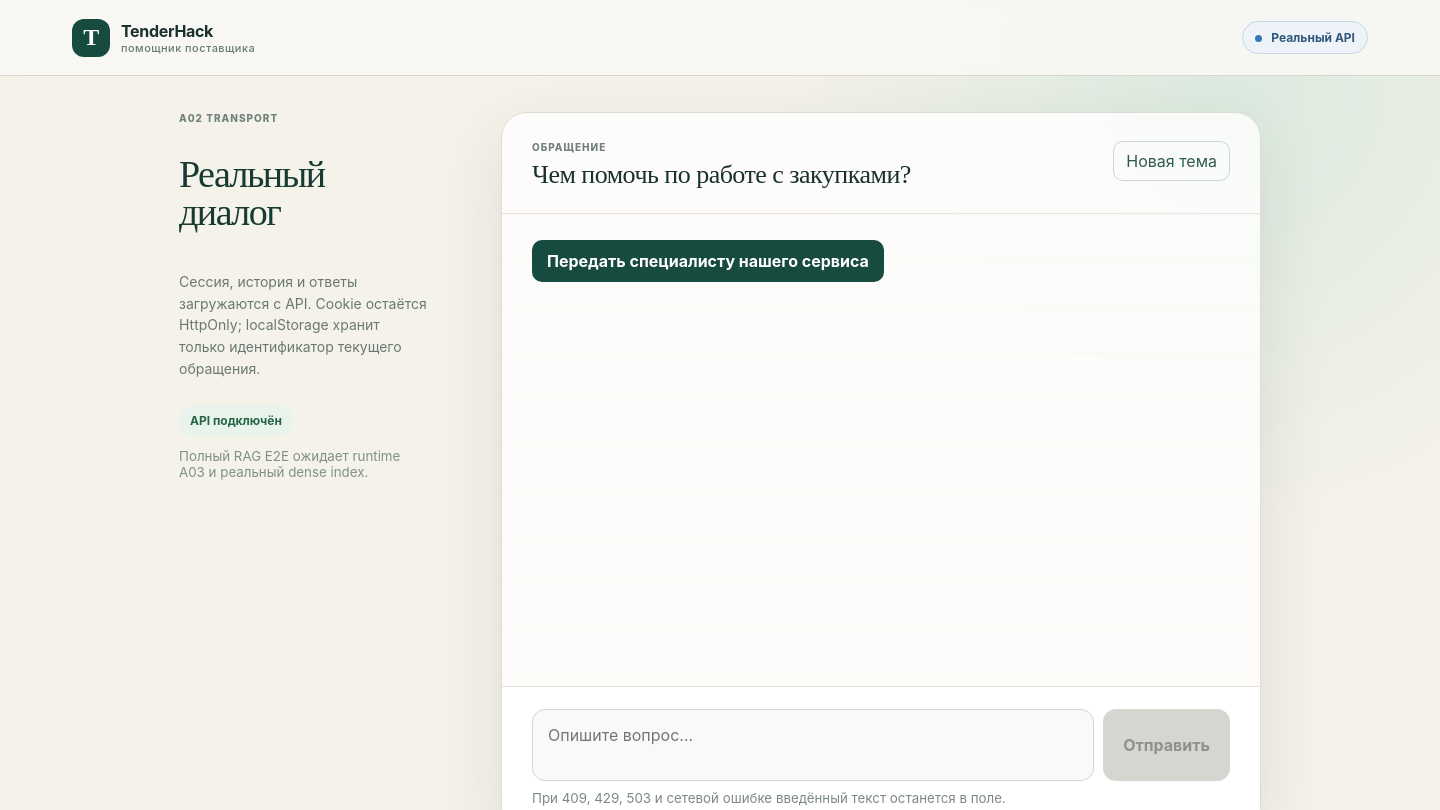
Test: TenderHack real API UI › sends explicit handoff to the real transport with the freshly loaded case_version
Click the button "Передать специалисту нашего сервиса": click(708, 261) [532,240,884,282]
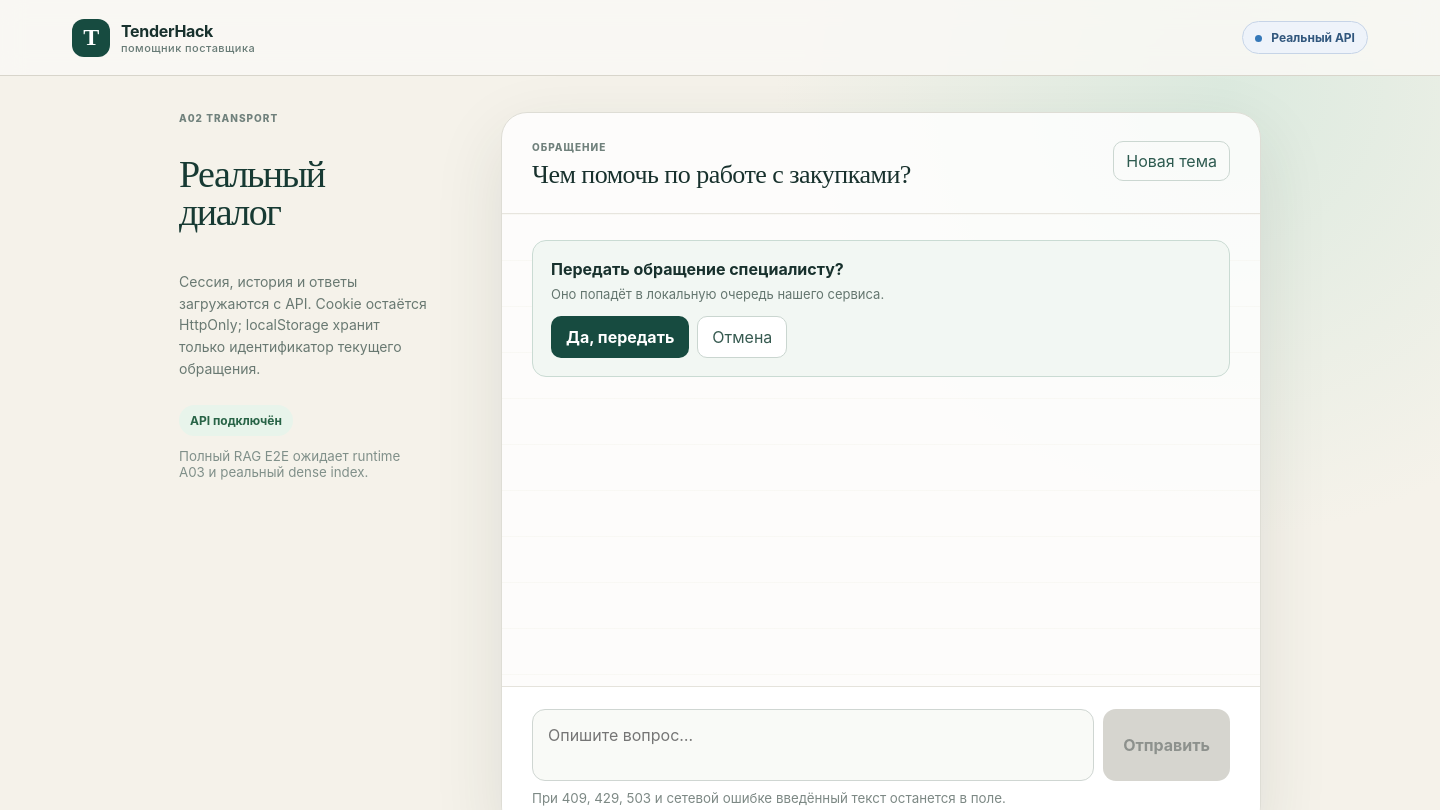
Click the button "Да, передать": click(620, 337) [551,316,689,358]
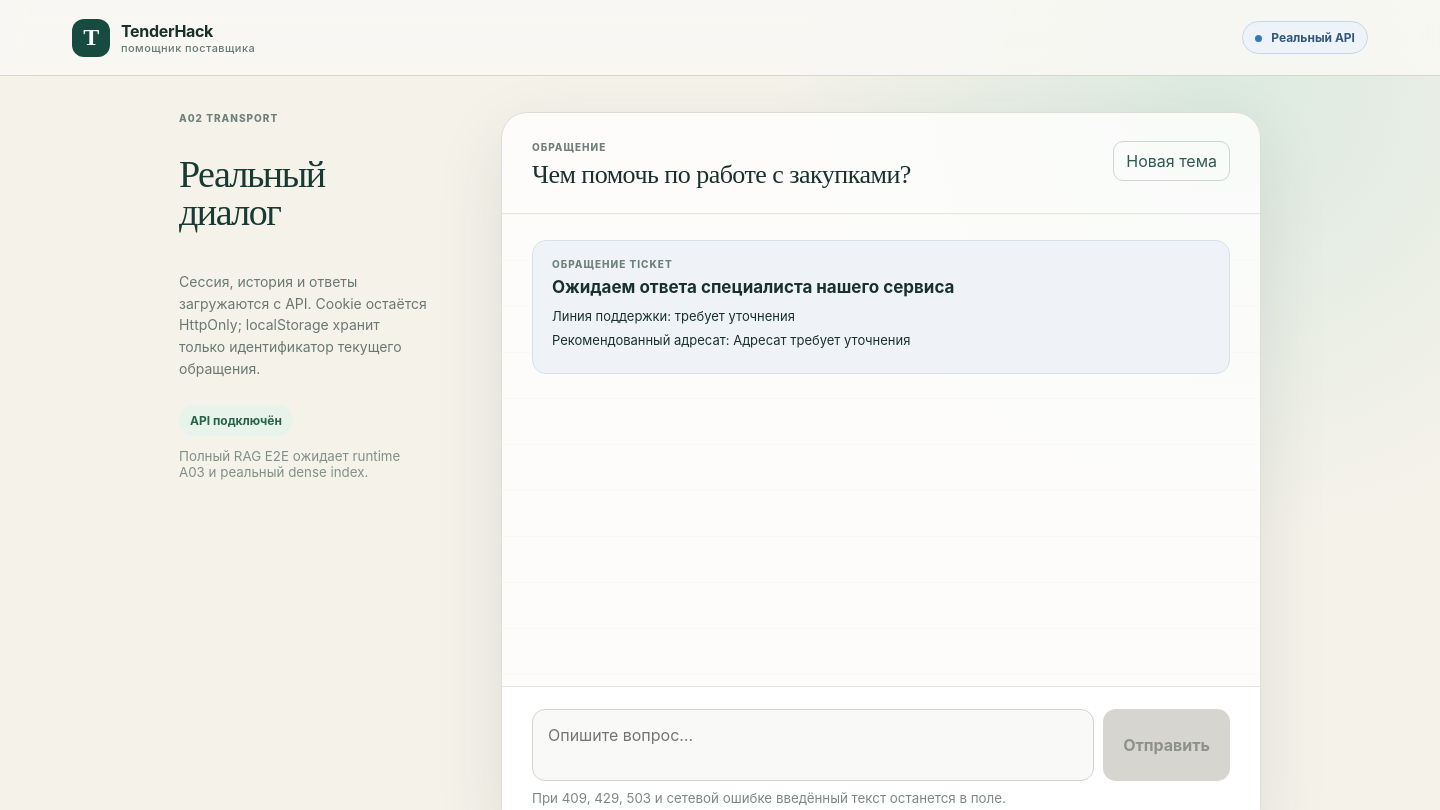
Expected: the heading "Ожидаем ответа специалиста нашего сервиса" is shown, [552,277,954,297]
